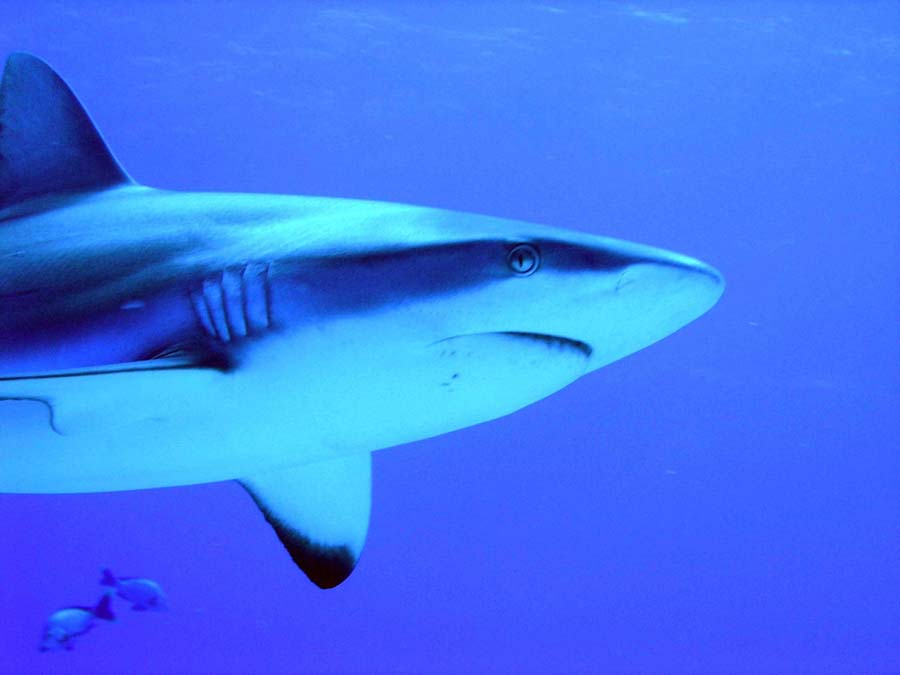Carcharhinus_amblyrhynchos: (1, 55, 742, 596)
